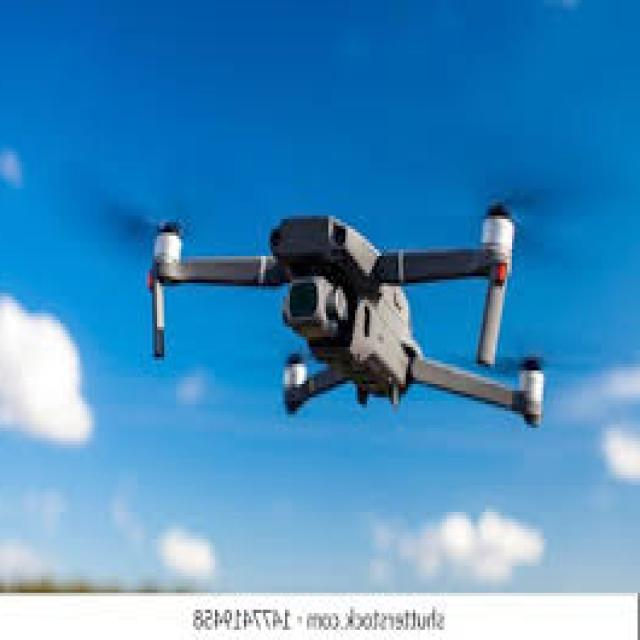drone: (107, 168, 578, 447)
